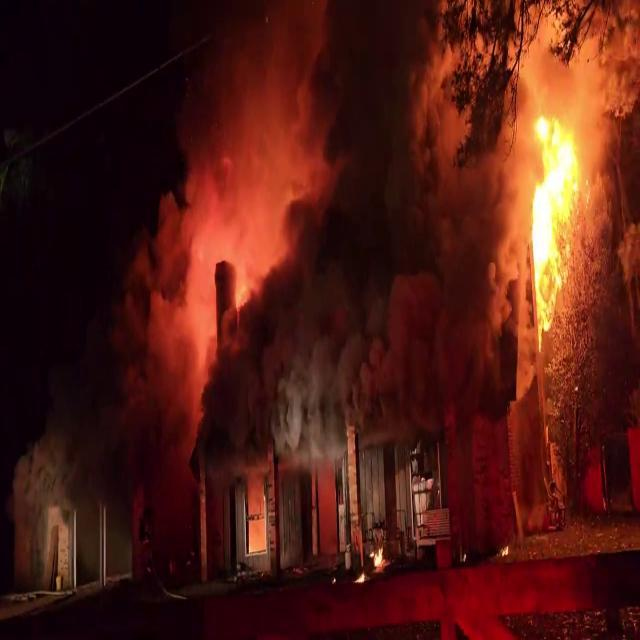Fire: (530, 105, 578, 288)
Smoke: (298, 1, 538, 478), (110, 0, 323, 518)
